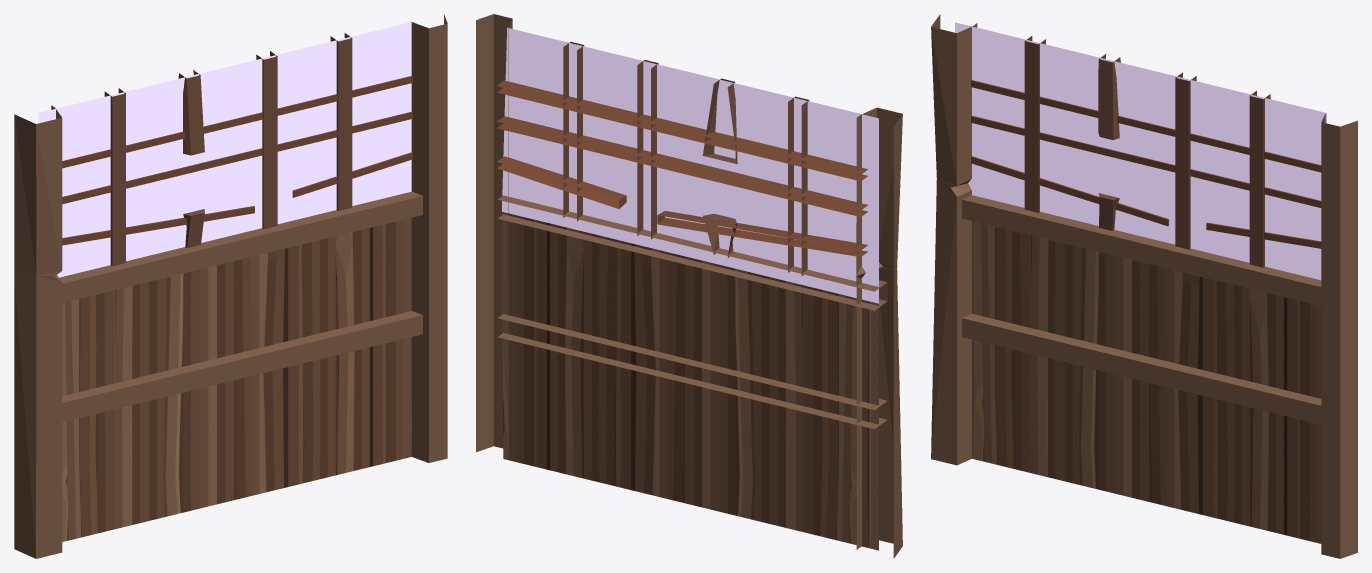
The model's file is BuildingWall_8_1  Asia.fbx.
The picture shows the model from 3 angles, left to right: view 1: azimuth 30°, elevation 25°; view 2: azimuth 150°, elevation 25°; view 3: azimuth 330°, elevation 25°; orthographic projection.
Parts seen in each view (by area): view 1: BuildingWall_8_1; view 2: BuildingWall_8_1; view 3: BuildingWall_8_1.
Boxes of the visible parts, x1,y1,x2,y2 form: BuildingWall_8_1: (14,14,447,558); BuildingWall_8_1: (476,14,902,558); BuildingWall_8_1: (931,14,1357,558).
Size of the model in its own units: 2 by 1.96 by 0.1498.
